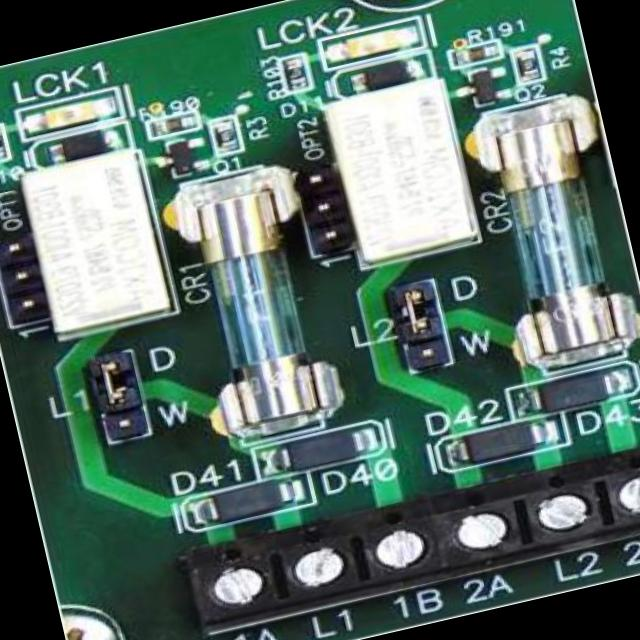LED: (18, 89, 132, 140), (324, 15, 428, 66)
connector: (155, 431, 640, 640), (89, 337, 161, 430), (386, 274, 454, 370), (0, 234, 49, 332)
diode: (178, 468, 324, 533), (440, 406, 558, 475), (524, 361, 640, 418), (268, 422, 374, 480), (40, 114, 126, 166), (346, 51, 438, 92)
resistor: (148, 106, 202, 137), (516, 38, 552, 84), (212, 113, 245, 160), (278, 52, 310, 95), (454, 40, 502, 66), (0, 117, 12, 171)
transistor: (449, 60, 509, 113), (155, 125, 211, 181)
